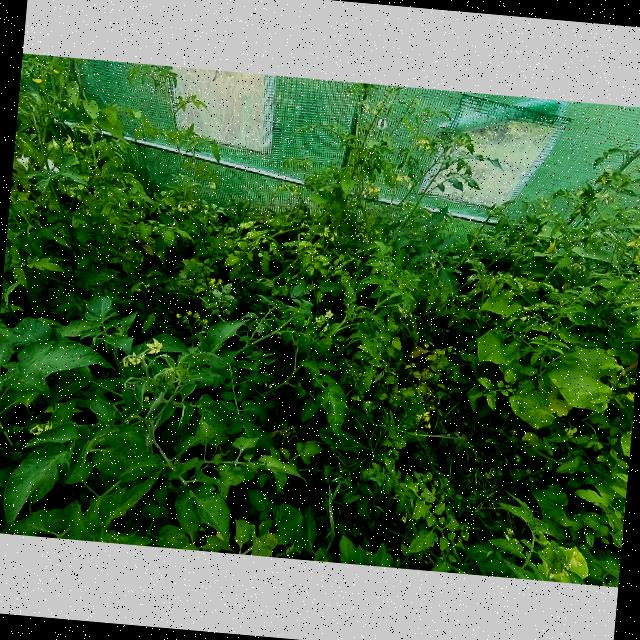Flowers: (121, 352, 142, 368), (31, 420, 52, 434), (144, 338, 162, 353), (365, 180, 381, 192), (63, 134, 74, 149), (422, 140, 432, 151), (626, 390, 635, 402), (49, 137, 58, 149), (421, 410, 431, 420), (520, 314, 532, 322), (401, 174, 412, 182), (324, 309, 333, 318), (399, 514, 407, 524), (505, 528, 515, 536), (322, 227, 330, 237), (403, 311, 413, 318), (424, 422, 432, 430), (406, 182, 414, 190), (208, 277, 216, 284), (174, 311, 182, 318), (176, 204, 183, 212), (186, 203, 193, 211), (202, 205, 208, 214), (522, 306, 530, 312), (414, 414, 421, 420), (215, 278, 222, 284), (209, 182, 216, 188), (396, 174, 402, 181), (314, 316, 320, 322), (202, 318, 208, 324), (186, 310, 192, 316), (134, 287, 142, 291), (372, 110, 377, 116), (363, 104, 368, 110), (397, 306, 402, 312), (318, 232, 323, 237), (194, 312, 198, 318), (330, 236, 334, 241)
